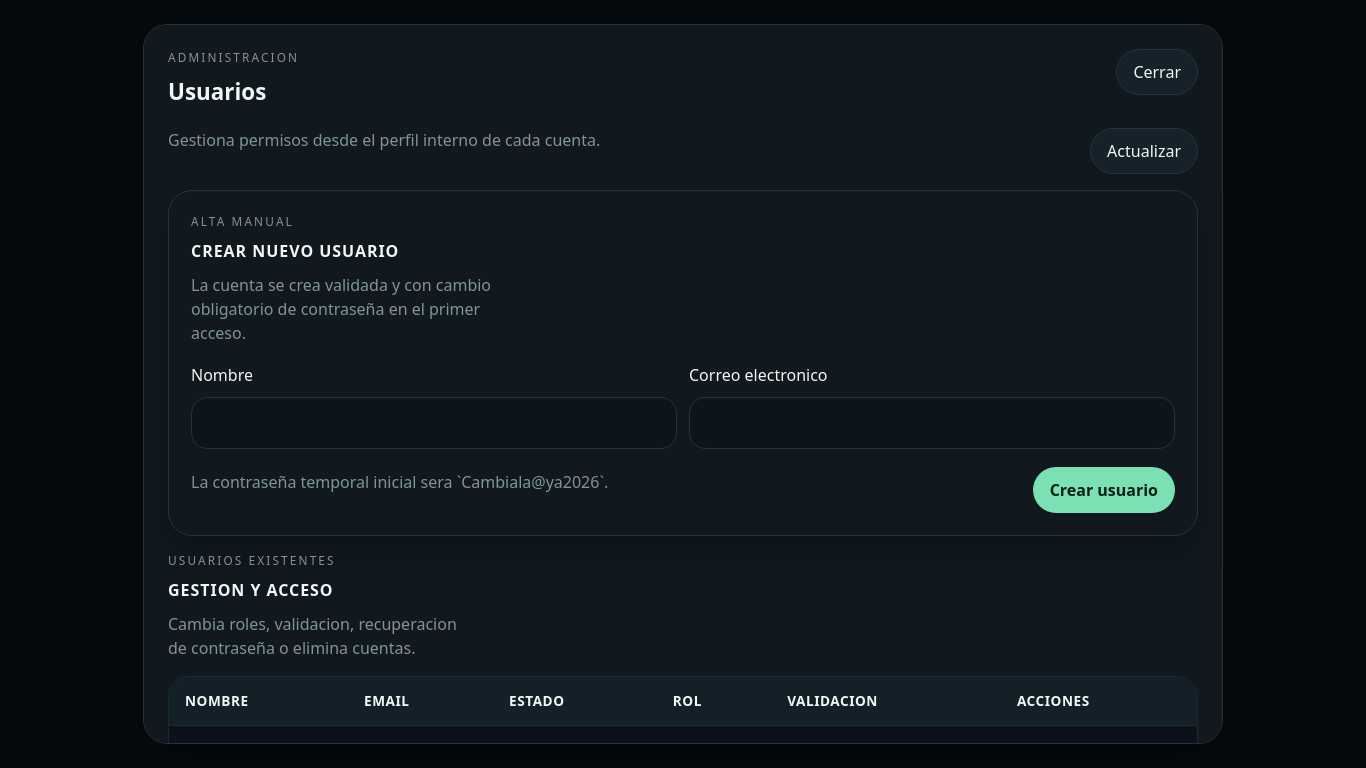
Scenario: UserManagementModal › no muestra el mensaje técnico si falla la creación de un usuario
Type "Ana" into the field labelled "Nombre" at [434, 423], box [191,397,677,449]
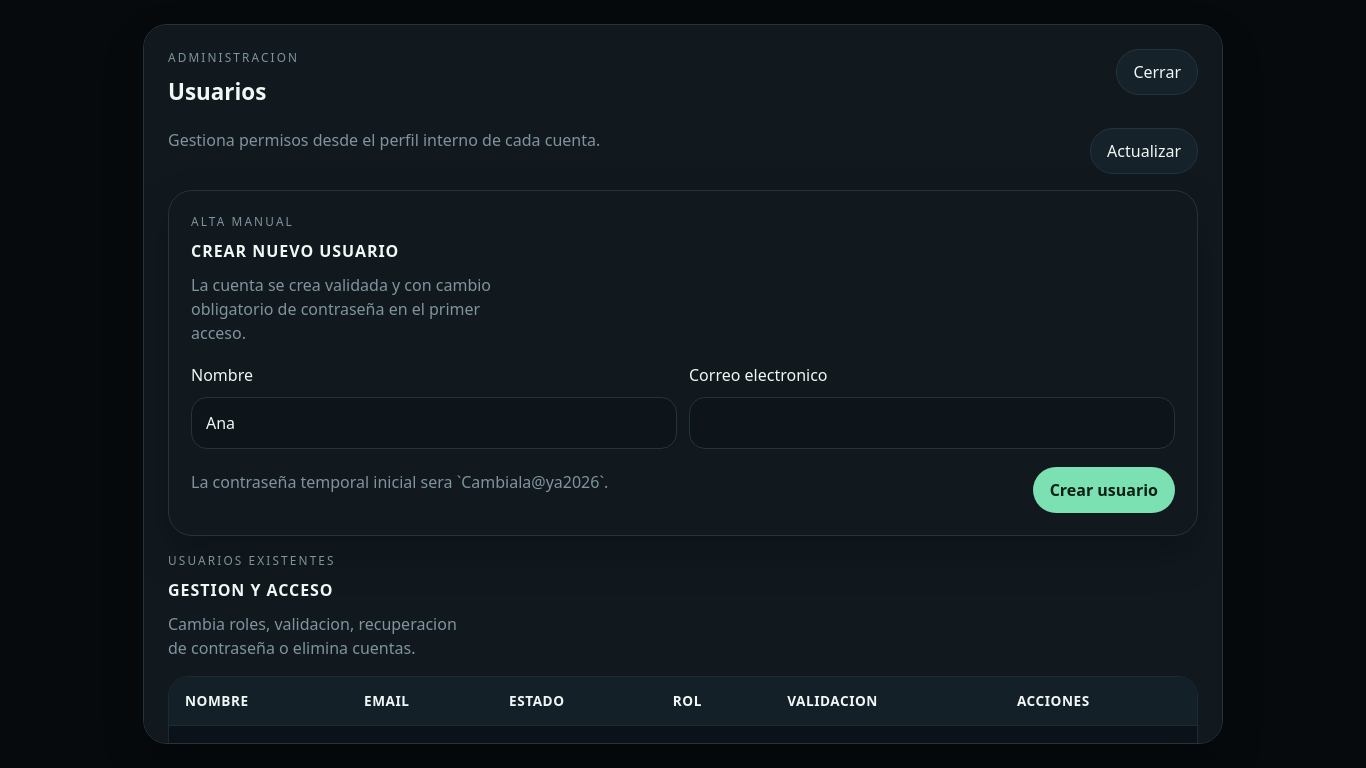
Type "ana@example.com" into the field labelled "Correo electronico" at [932, 423], box [689,397,1175,449]
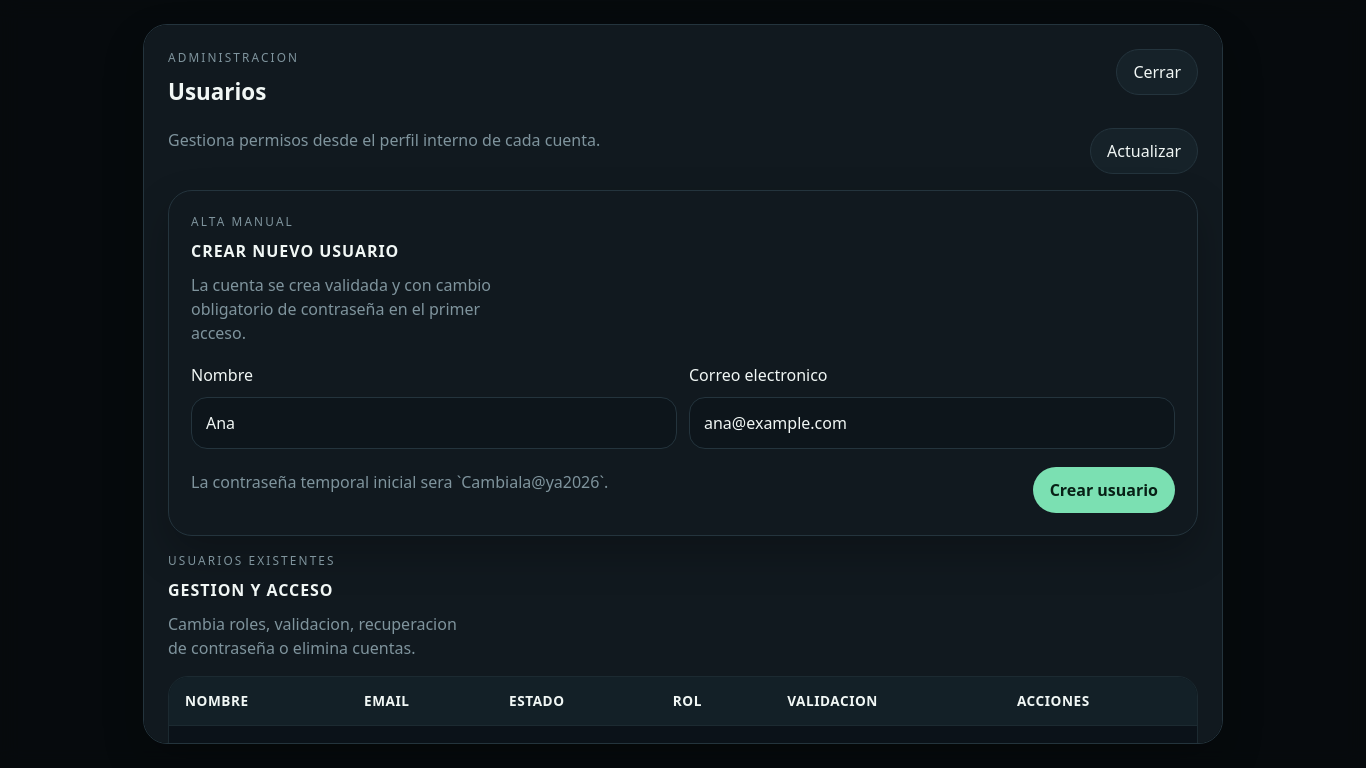
Click the button "Crear usuario" at [1104, 490], box [1033,467,1175,513]
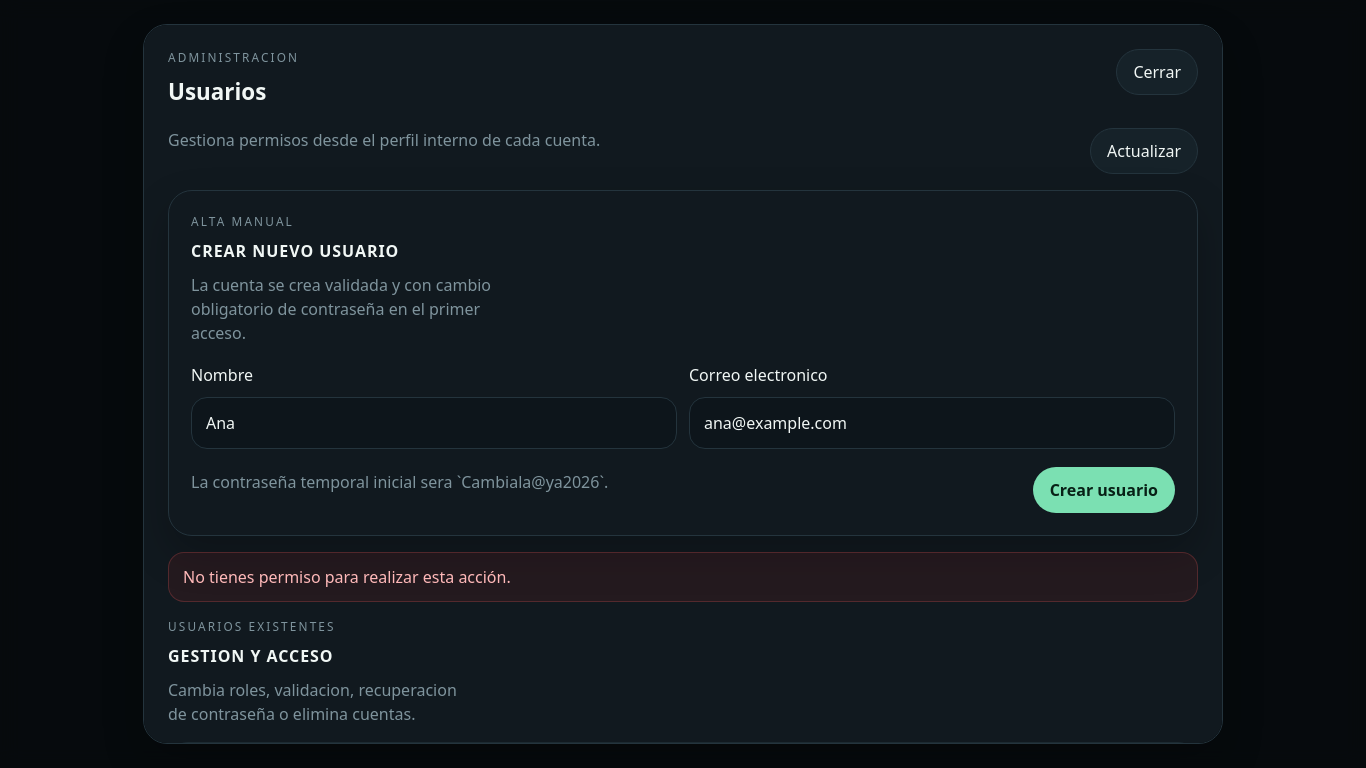
Result: the text "No tienes permiso para realizar esta acción." is shown at [168,552,1198,602]
